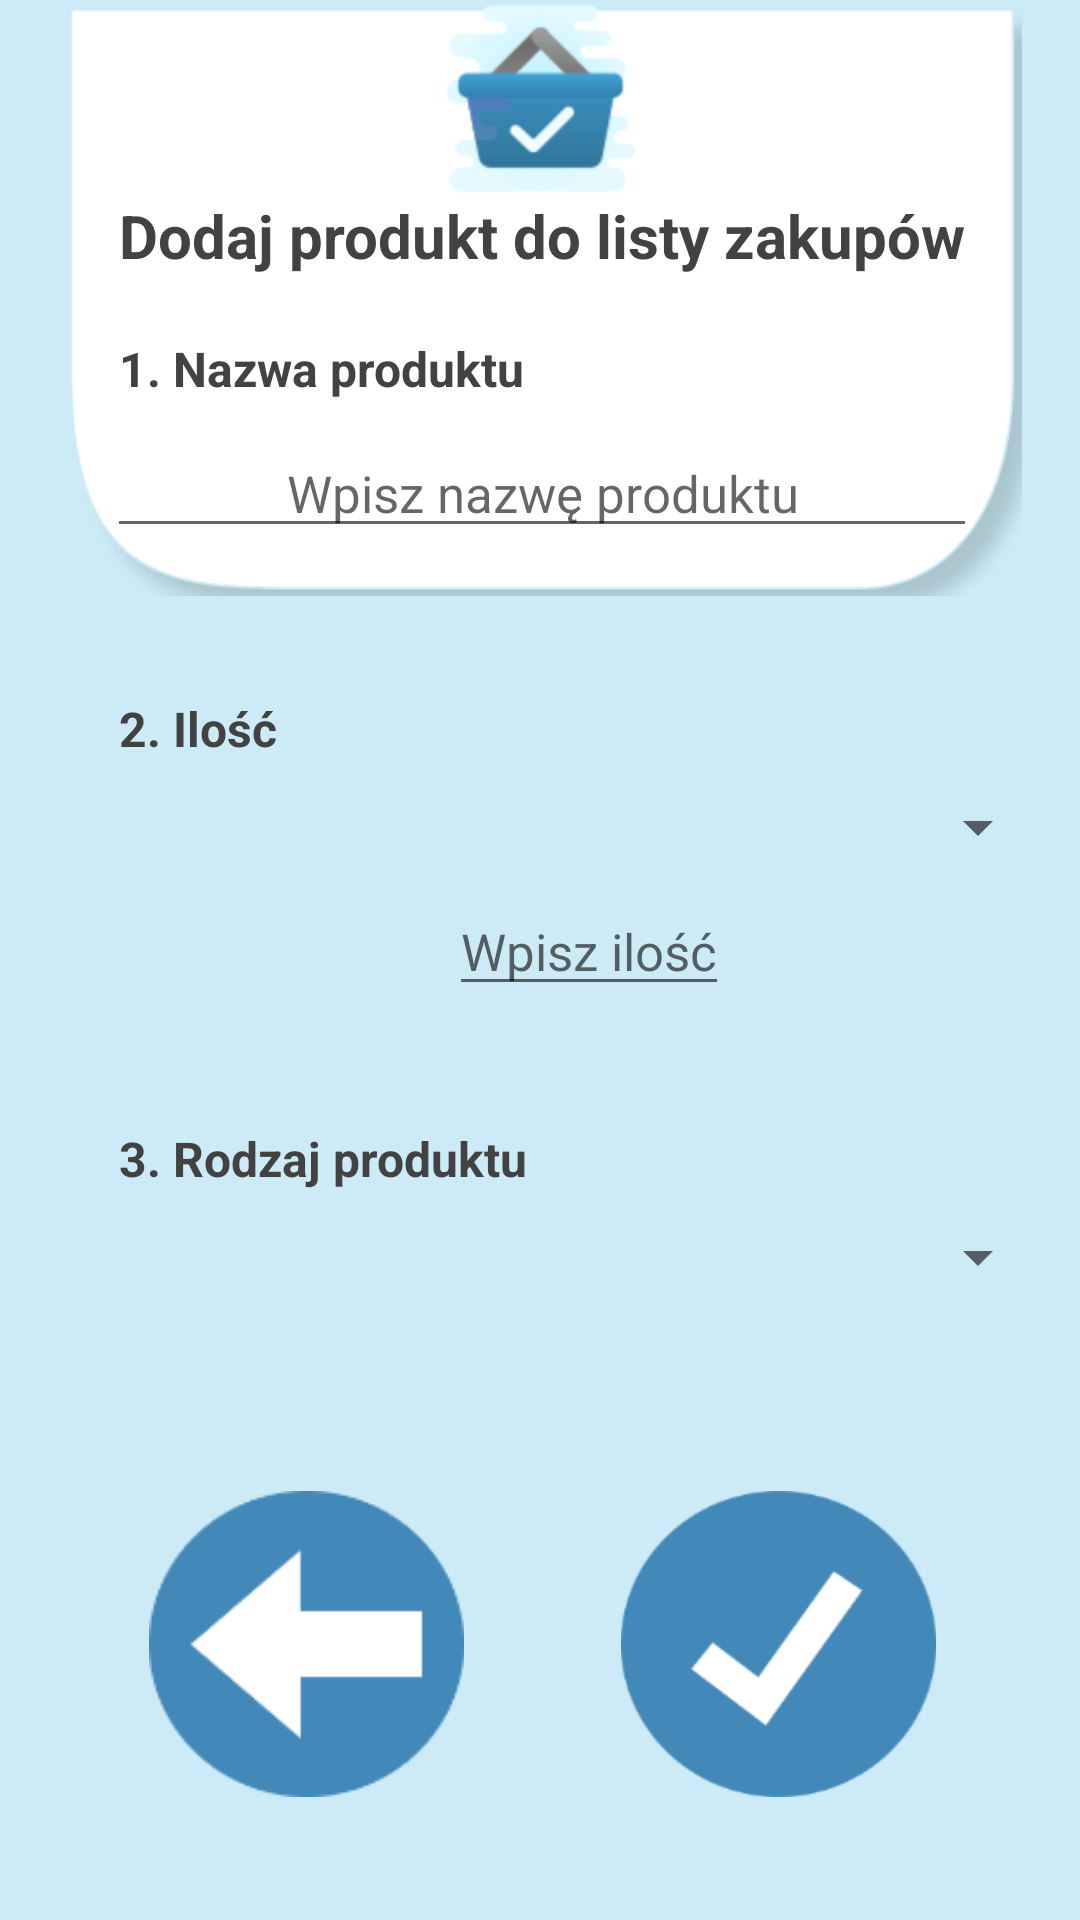

Where icons sit on this 1080 x 1920 app screen, as {"x1": x1, "y1": y1, "x2": x2, "y2": y2}:
back: {"x1": 149, "y1": 1491, "x2": 464, "y2": 1797}
check: {"x1": 621, "y1": 1491, "x2": 936, "y2": 1797}
shopping basket: {"x1": 425, "y1": 0, "x2": 656, "y2": 191}
